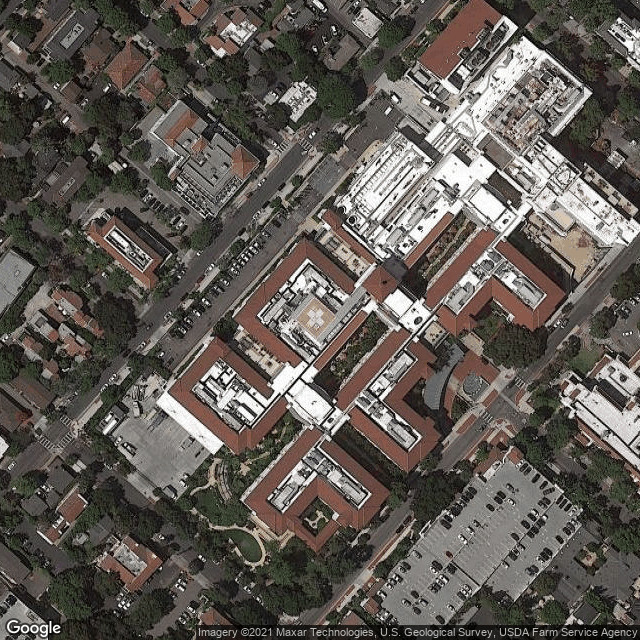Helipad: (293, 294, 332, 333)
